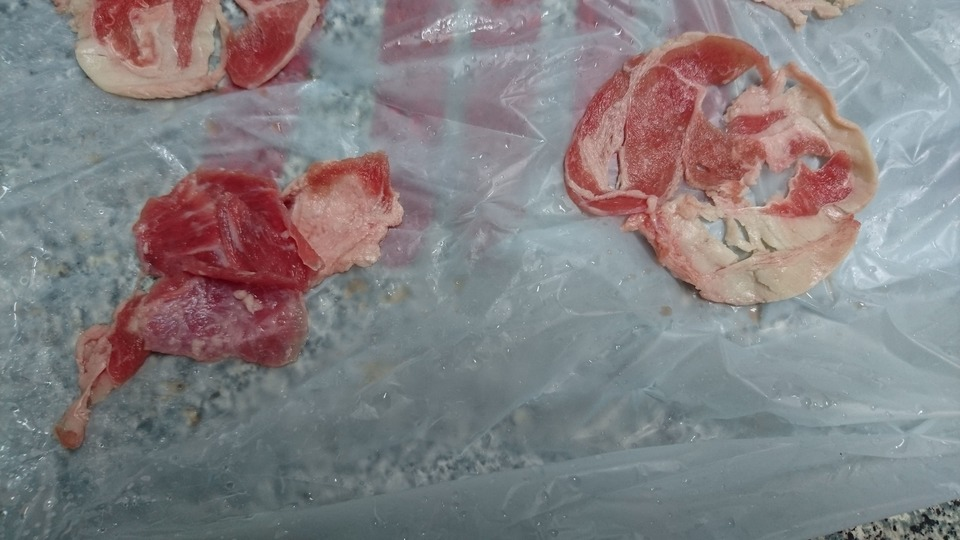restructured meat: (55, 146, 397, 435), (552, 26, 882, 308)
